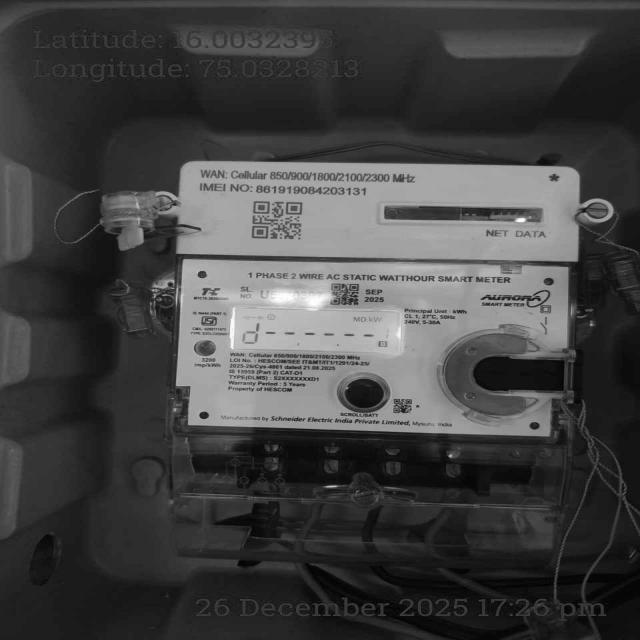meter: (176, 160, 579, 438)
